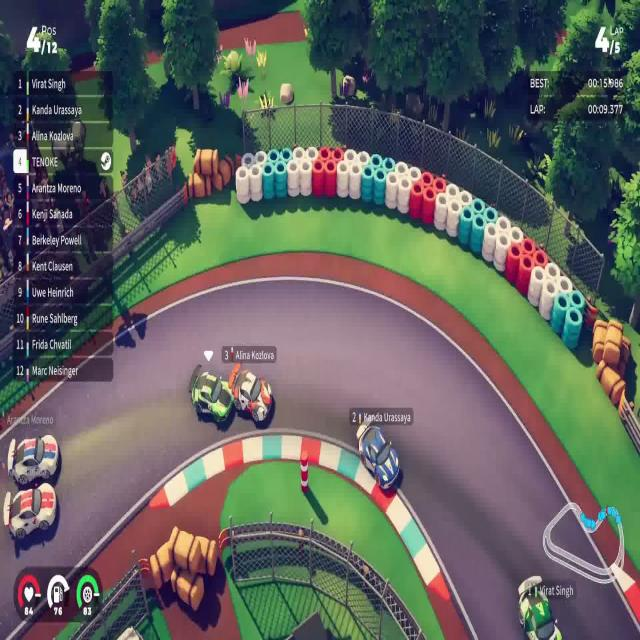car: (3, 481, 57, 541), (356, 419, 400, 492), (6, 433, 59, 485), (231, 367, 273, 424), (190, 370, 234, 424)
